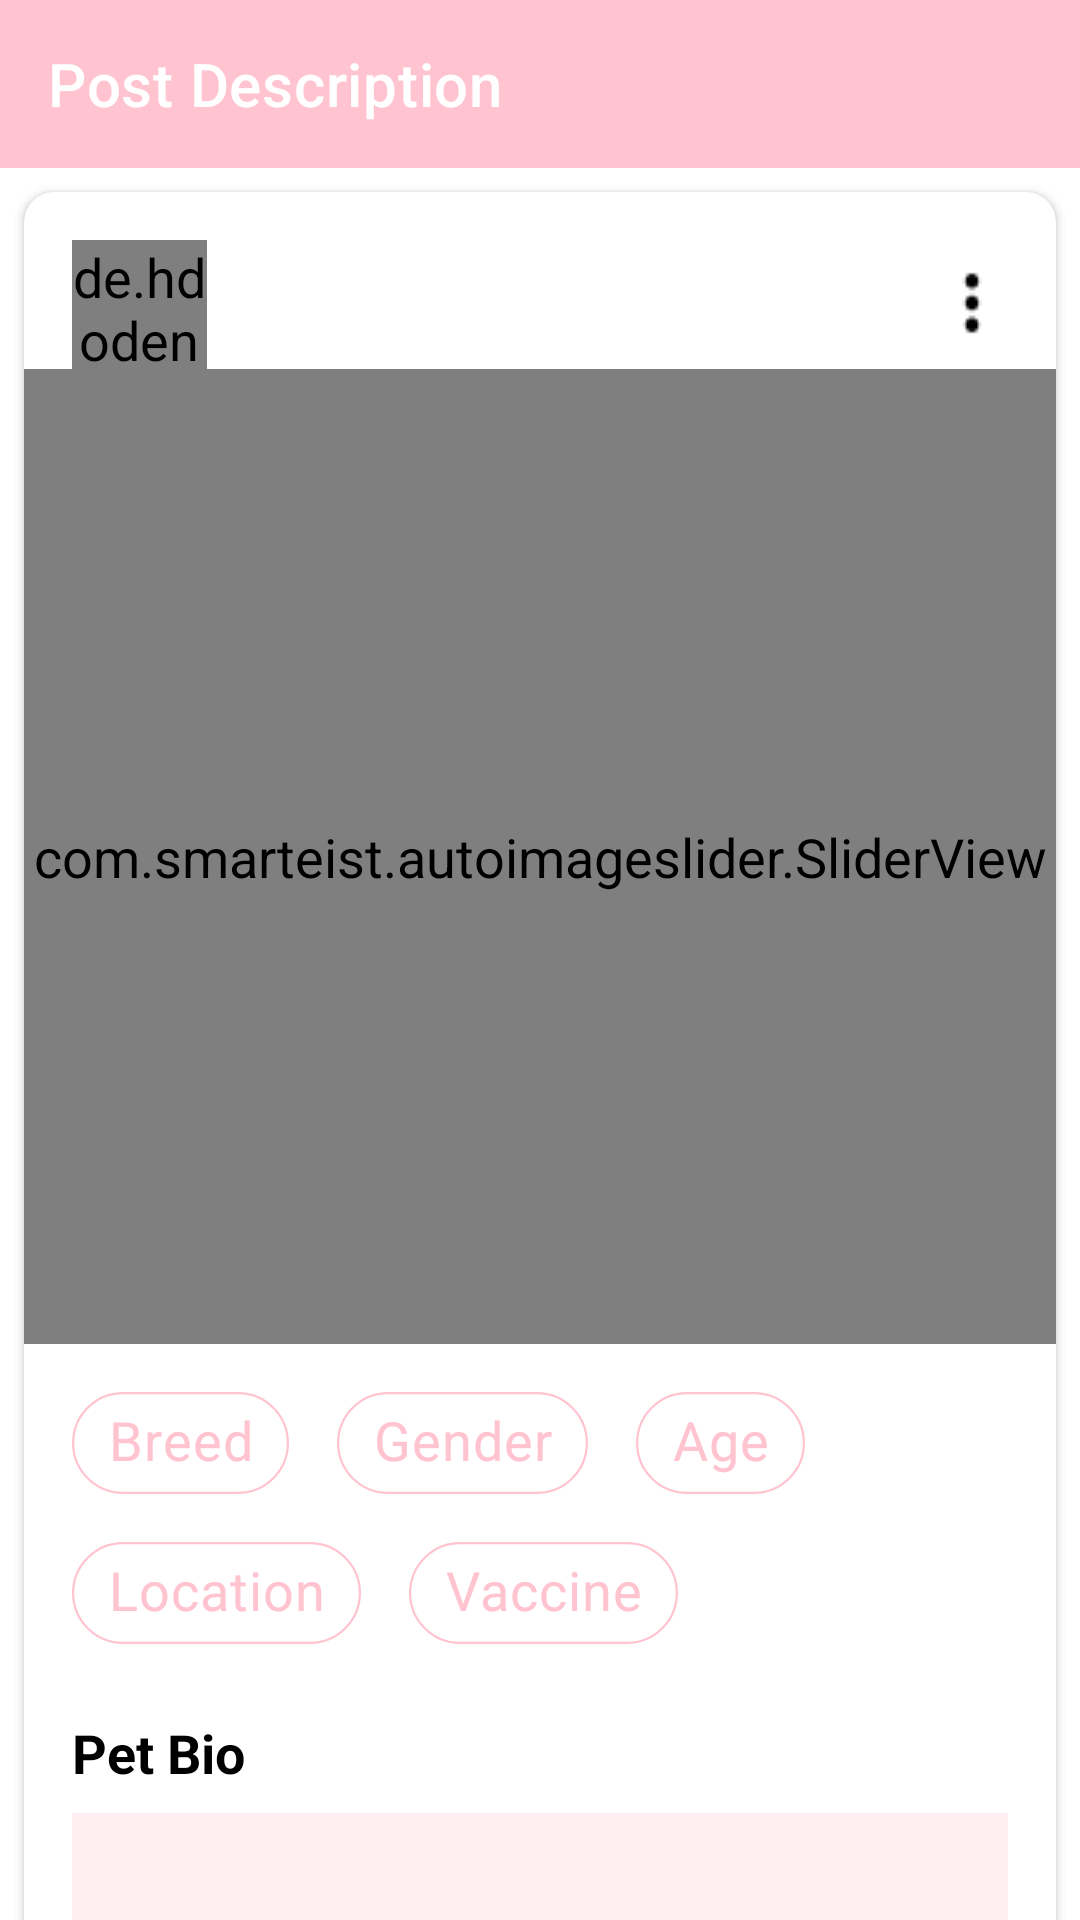

Screen size 1080w x 1920h. Icon name, then its box in pixels as (x1, y1, x2, y2):
menu: (963, 272, 981, 334)
